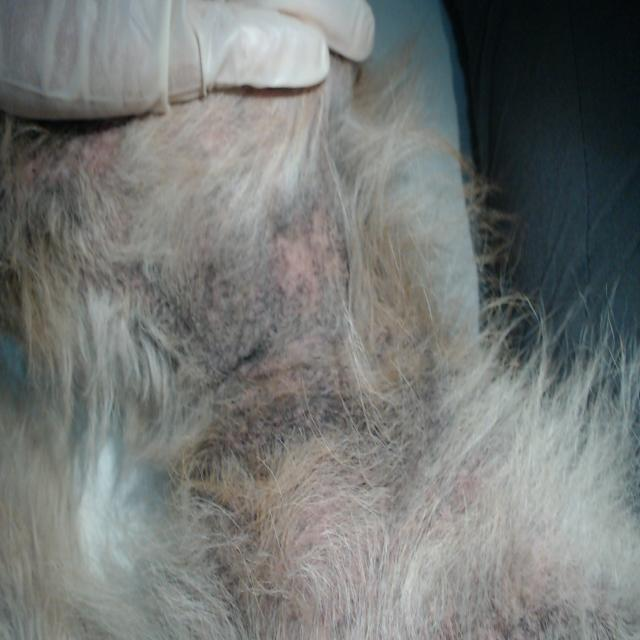demodicosis: (253, 205, 380, 414)
